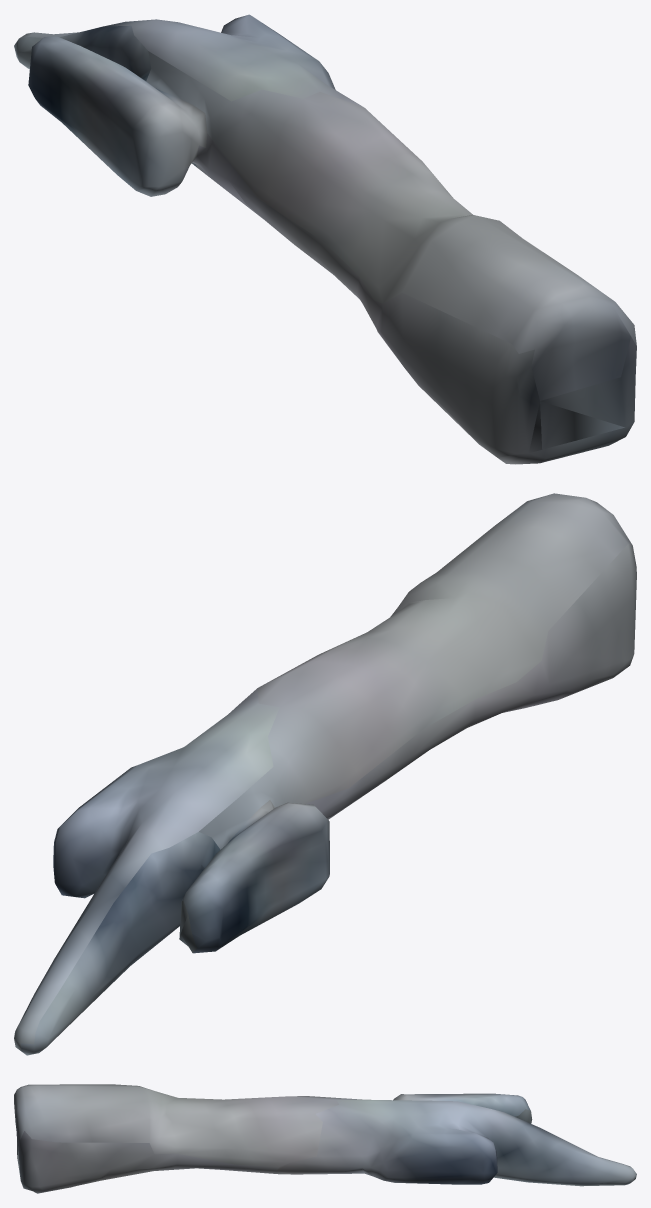
The model's file is freighter_part_6.glb.
The picture shows the model from 3 angles, top to bottom: view 1: azimuth 30°, elevation 25°; view 2: azimuth 150°, elevation 25°; view 3: azimuth 270°, elevation 25°; orthographic projection. The views are drawn at different scales.
Parts seen in each view (by area): view 1: part6; view 2: part6; view 3: part6.
Boxes of the visible parts, bbox=[...] form: part6: bbox=[14, 14, 636, 464]; part6: bbox=[14, 493, 636, 1055]; part6: bbox=[14, 1084, 636, 1193].
Size of the model in its own units: 0.0206 by 0.0164 by 0.0979.
Materials: 1 (1 with a texture image).
